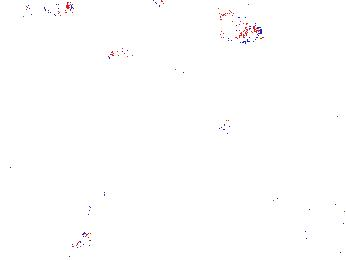X-ray fish: (204, 11, 266, 45)
glassfish: (77, 174, 129, 247), (216, 119, 297, 155)
red belly glassfish: (105, 40, 157, 64), (164, 60, 215, 81), (54, 2, 77, 17), (20, 1, 36, 22)
